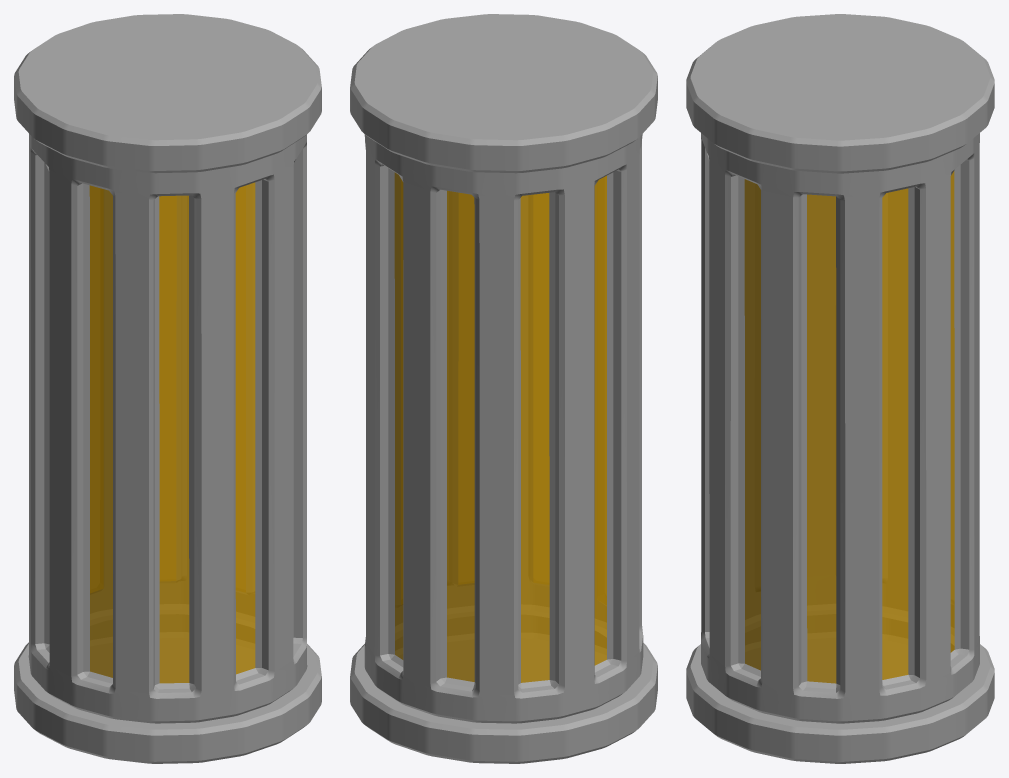
Rendered from Plasma Canister.fbx.
The picture shows the model from 3 angles, left to right: view 1: azimuth 30°, elevation 25°; view 2: azimuth 150°, elevation 25°; view 3: azimuth 270°, elevation 25°; orthographic projection.
Parts seen in each view (by area): view 1: pCylinder1; view 2: pCylinder1; view 3: pCylinder1.
Boxes of the visible parts, left/top/right/bottom form: pCylinder1: left=14, top=14, right=321, bottom=763; pCylinder1: left=350, top=14, right=657, bottom=763; pCylinder1: left=686, top=14, right=994, bottom=763.
Bounding box in the file's own units: 0.5231 × 1.17 × 0.5231.
